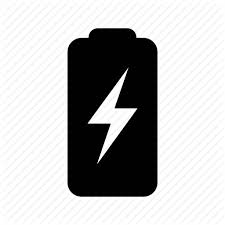charging sign: (40, 18, 173, 212)
